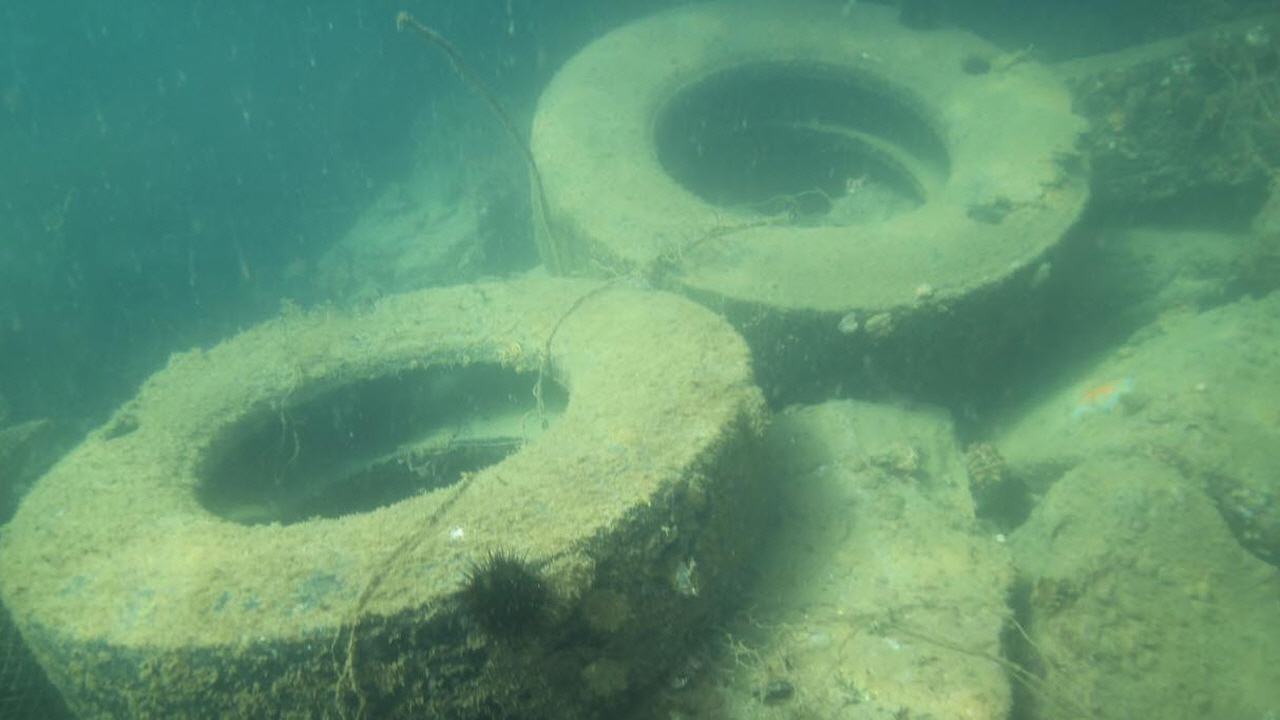tire: (0, 276, 770, 720), (528, 0, 1093, 390)
